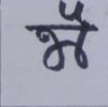ai_matra: (63, 2, 92, 26)
